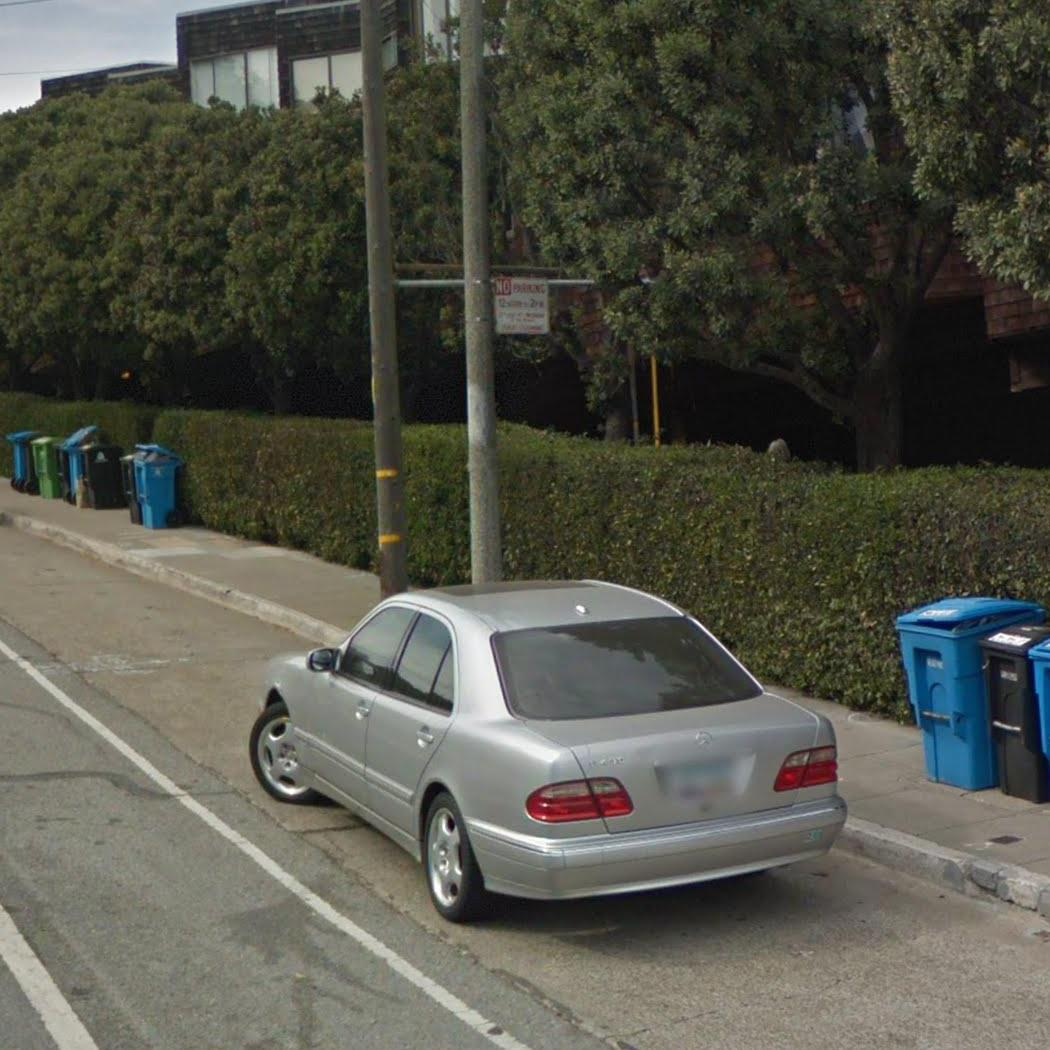No Parking: (494, 277, 553, 336)
